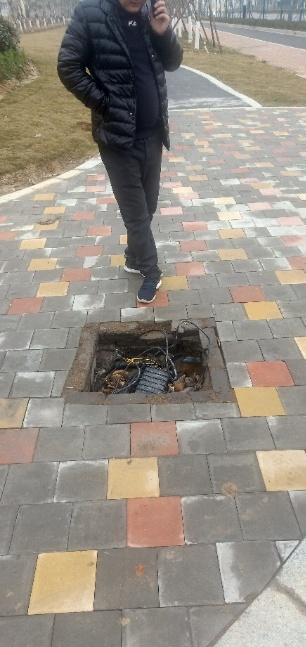lose: (81, 329, 218, 395)
